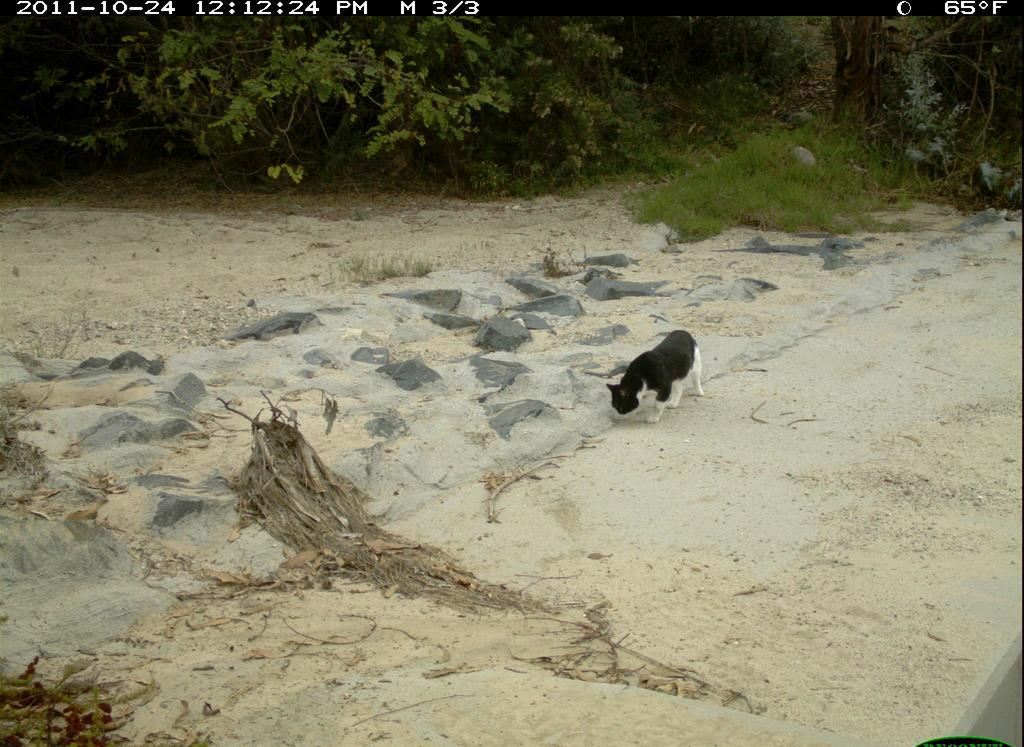cat: (593, 313, 735, 440)
